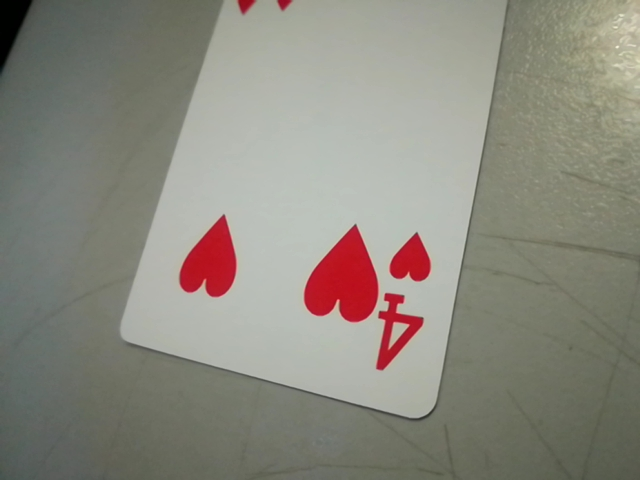hx 4: (369, 222, 444, 383)
